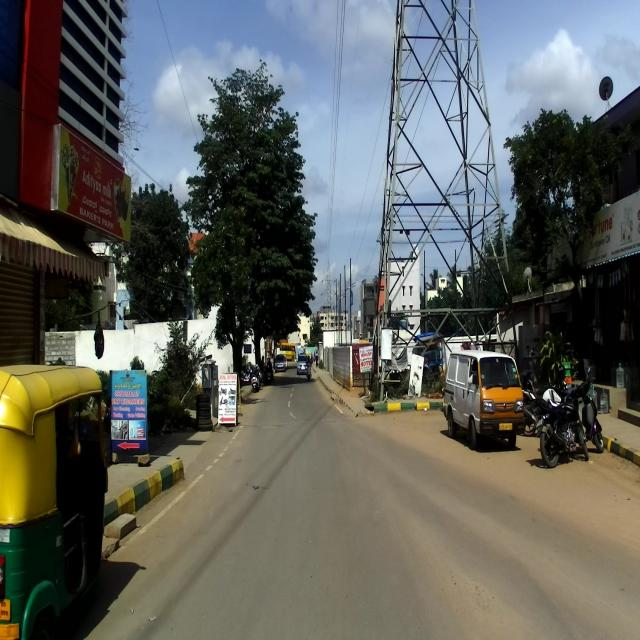Car_Maruti-Suzuki: (443, 347, 525, 452)
autorickshaw: (0, 364, 111, 639)
motorcycle_bajaj: (533, 382, 584, 469)
